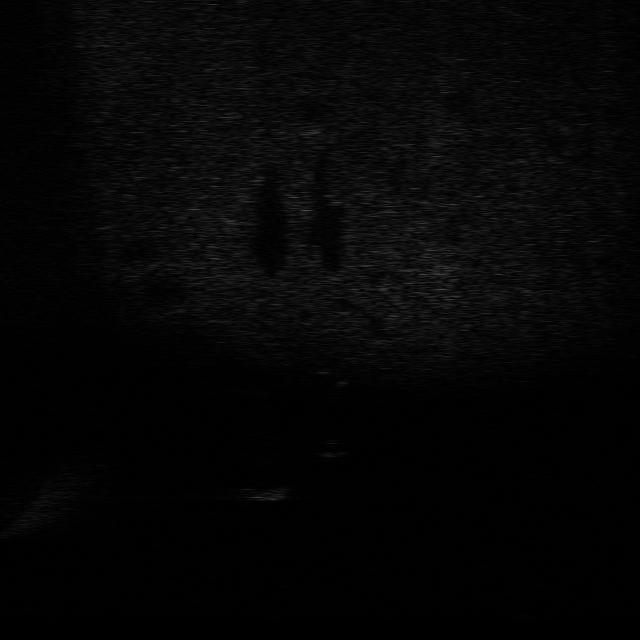ball: (307, 435, 348, 451)
human body: (299, 343, 351, 406)
square cage: (308, 436, 354, 461)
